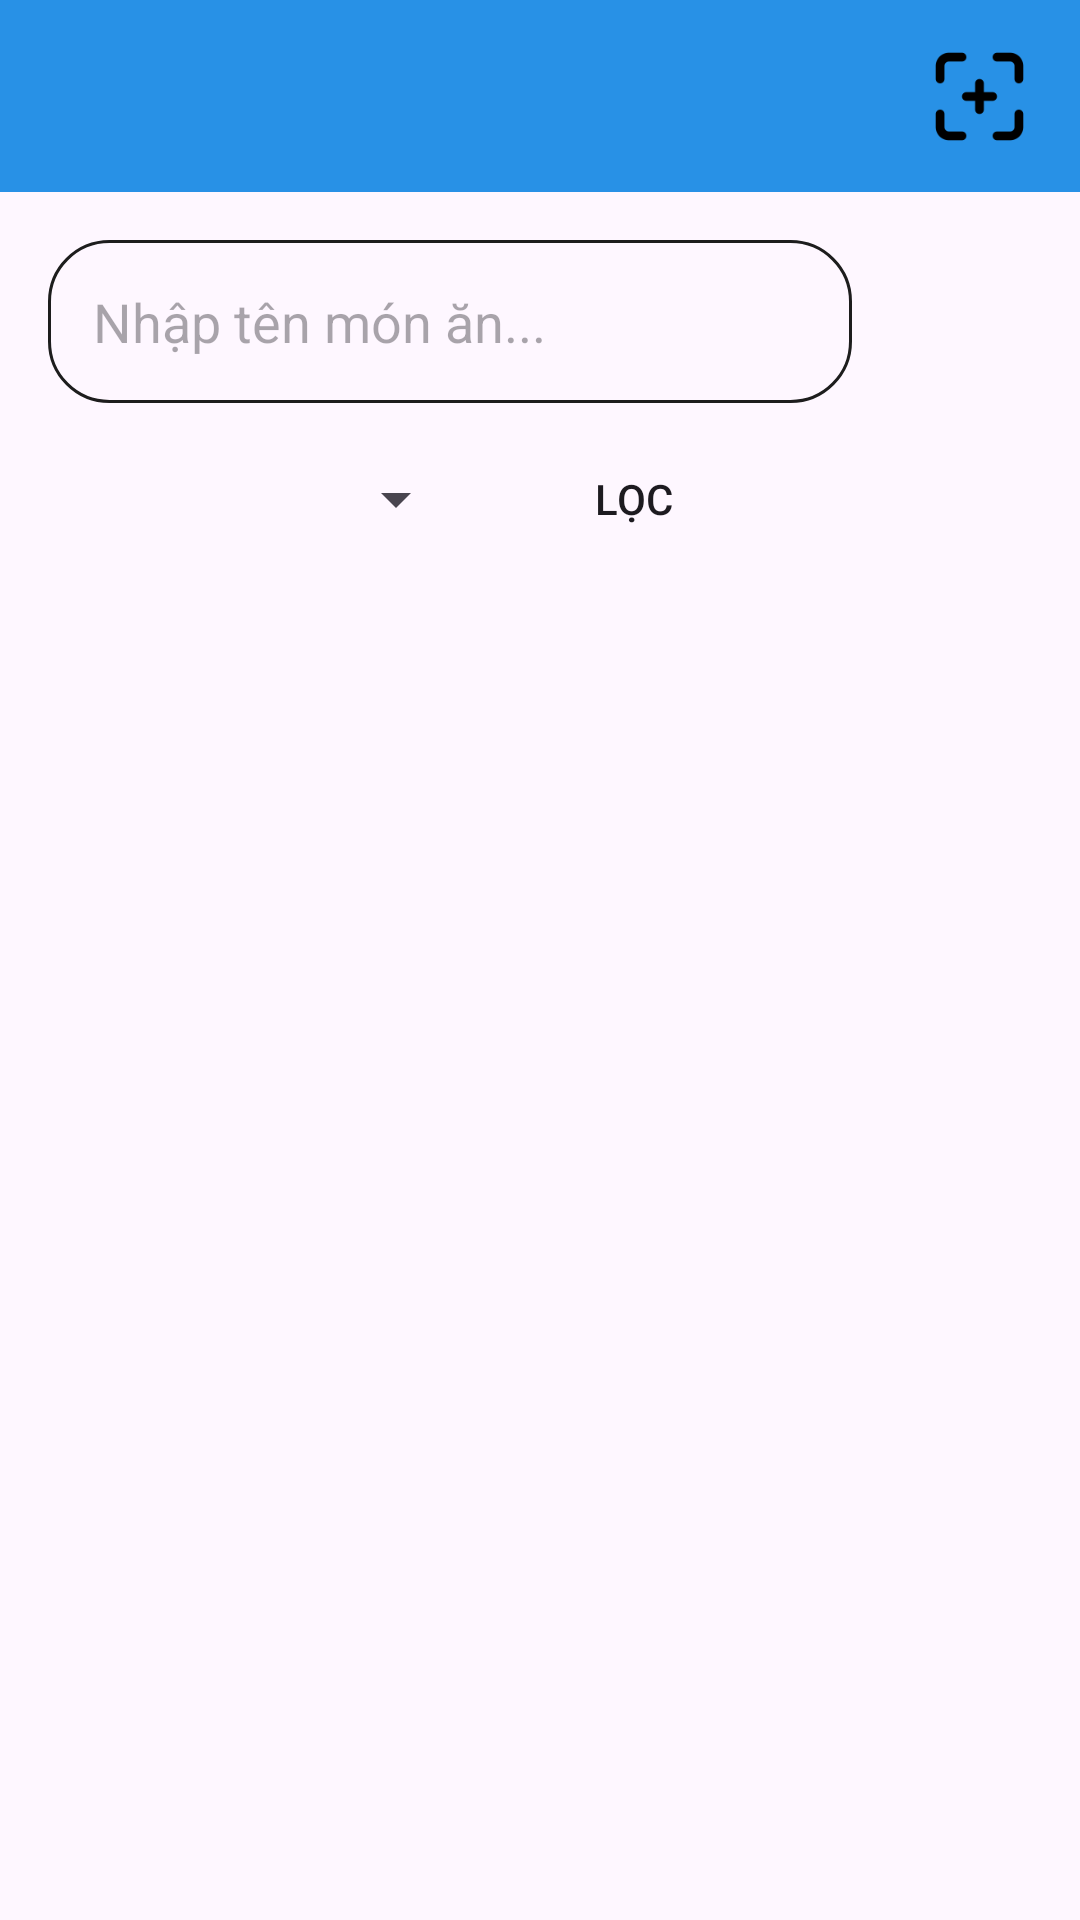

Icons on this 1080*1920 Android screen, each with the point to tap as (x,y):
addsquare: (979,96)
